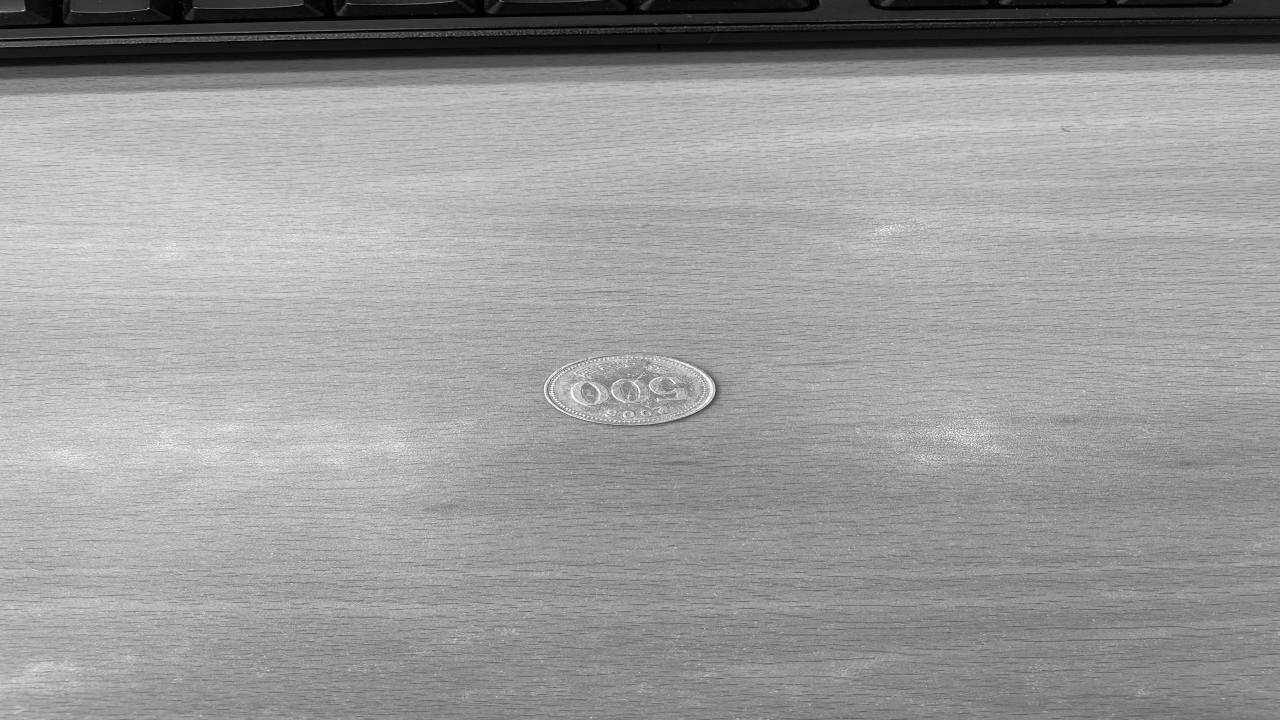coin: (539, 352, 721, 426)
